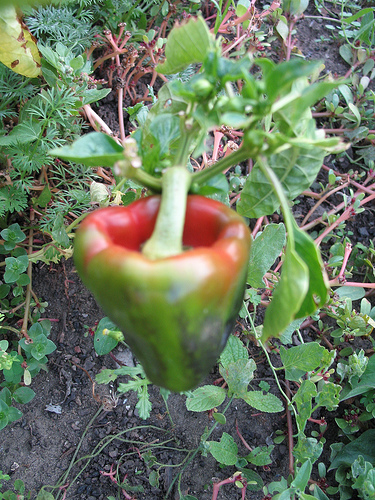capsicum: (73, 165, 251, 396)
